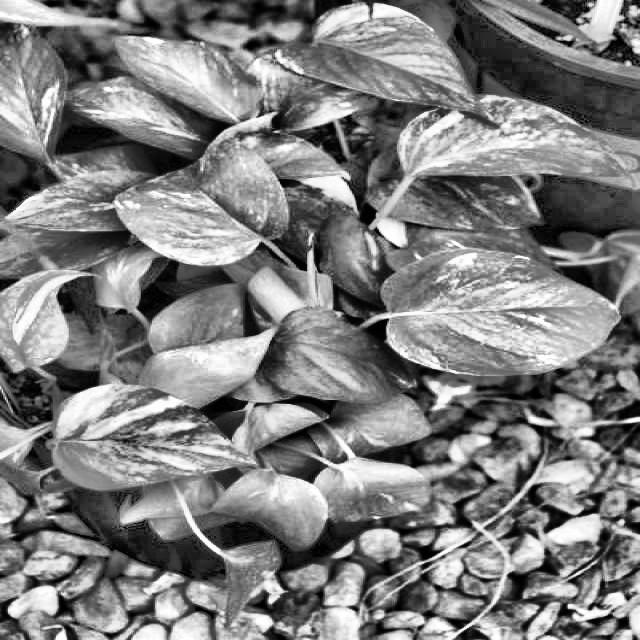plants: (0, 8, 605, 581), (8, 252, 456, 610)
